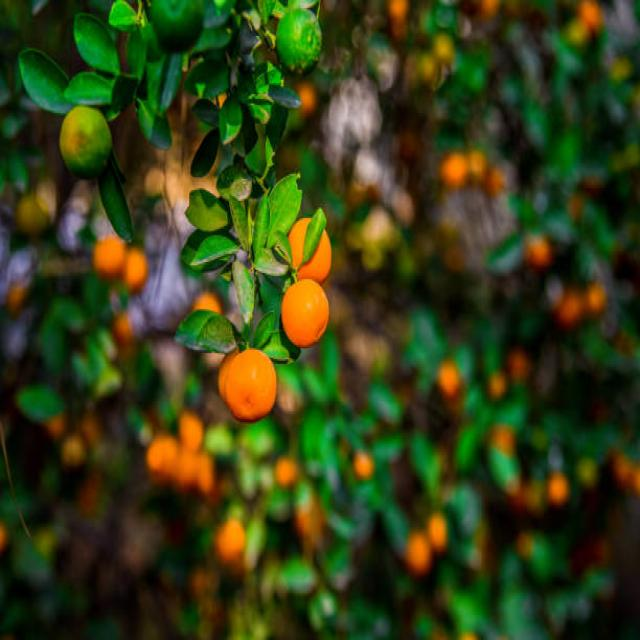orange: (225, 348, 278, 426), (57, 105, 112, 177), (280, 278, 331, 346), (274, 7, 323, 72), (289, 215, 333, 282)
